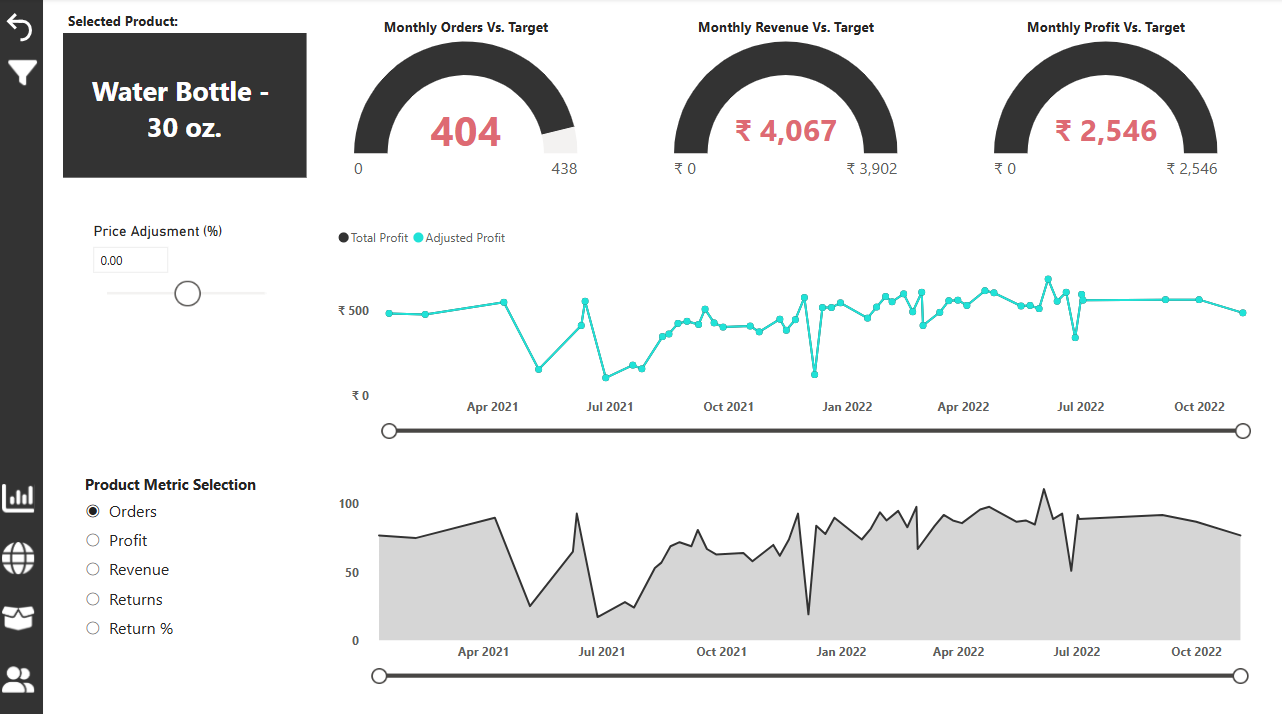

The page's visual inventory and layout, read from the dashboard file:
{"tool":"powerbi","page":{"name":"Product Detail","canvas":[1280,720],"ordinal":2},"visuals":[{"type":"shape","title":"Left Nav Background","box":[0,0,45,720],"z":0},{"type":"actionButton","box":[0.3,478.1,59.9,40.4],"z":0,"group":"g1"},{"type":"gauge","title":"Monthly Orders Vs. Target","fields":{"Y":["Measure Table.Total Orders"],"MaxValue":["Measure Table.Orders Target"]},"box":[349.7,19.6,232.3,172.4],"z":1000},{"type":"actionButton","box":[0.3,538,59.9,40.4],"z":1000,"group":"g1"},{"type":"gauge","title":"Monthly Revenue Vs. Target","fields":{"Y":["Measure Table.Total Revenue"],"MaxValue":["Measure Table.Previous Month Revenue"]},"box":[668.3,19.6,232.3,172.4],"z":2000},{"type":"actionButton","box":[0.3,597.9,59.9,40.4],"z":2000,"group":"g1"},{"type":"gauge","title":"Monthly Profit Vs. Target","fields":{"Y":["Measure Table.Total Profit"],"MaxValue":["Measure Table.Total Profit"]},"box":[986.8,19.6,232.3,172.4],"z":3000},{"type":"actionButton","box":[0.3,657.9,59.9,40.4],"z":3000,"group":"g1"},{"type":"lineChart","title":"Profit Trending","fields":{"Category":["Calendar Lookup.Date Jeirarchy.Start of Year","Calendar Lookup.Date Jeirarchy.Start of Month","Calendar Lookup.Date Jeirarchy.Start of Week","Calendar Lookup.Date Jeirarchy.Date"],"Y":["Measure Table.Total Profit","Measure Table.Adjusted Profit"]},"box":[333.8,218.9,936.7,222.6],"z":4000},{"type":"areaChart","title":"Returns Trending","fields":{"Y":["Measure Table.Total Orders"],"Category":["Calendar Lookup.Date Jeirarchy.Start of Year","Calendar Lookup.Date Jeirarchy.Start of Month","Calendar Lookup.Date Jeirarchy.Start of Week","Calendar Lookup.Date Jeirarchy.Date"]},"box":[333.8,462.2,934.2,222.6],"z":5000},{"type":"card","fields":{"Values":["Min(Product Lookup.ProductName)"]},"box":[64.8,35.1,242.1,144.3],"z":6000},{"type":"textbox","box":[64.8,8.2,150.4,39.1],"z":7000},{"type":"group","id":"g1","title":"Navigation Bar","box":[0.3,478.1,59.9,220.1],"z":8000},{"type":"slicer","fields":{"Values":["Price Adjusment (%).Price Adjusment (%)"]},"box":[81.9,218.9,206.7,171.2],"z":9000},{"type":"slicer","fields":{"Values":["Product Metric Selection.Product Metric Selection"]},"box":[73.4,469.6,206.7,188.3],"z":10000},{"type":"actionButton","box":[2.4,9.8,55,37.9],"z":10001},{"type":"actionButton","box":[6.1,56.3,55,36.7],"z":10002}]}

Visuals, with their boxes on the page's 1280x720 design canvas (x1, y1, x2, y2). These are canvas units, not pixel positions in the 1282x714 screenshot, which may show the page scaled, cropped or inside an application window:
"Left Nav Background" shape: region(0, 0, 45, 720)
actionButton: region(0, 478, 60, 518)
"Monthly Orders Vs. Target" gauge: region(350, 20, 582, 192)
actionButton: region(0, 538, 60, 578)
"Monthly Revenue Vs. Target" gauge: region(668, 20, 901, 192)
actionButton: region(0, 598, 60, 638)
"Monthly Profit Vs. Target" gauge: region(987, 20, 1219, 192)
actionButton: region(0, 658, 60, 698)
"Profit Trending" lineChart: region(334, 219, 1270, 442)
"Returns Trending" areaChart: region(334, 462, 1268, 685)
card - Min(Product Lookup.ProductName): region(65, 35, 307, 179)
textbox: region(65, 8, 215, 47)
"Navigation Bar" group: region(0, 478, 60, 698)
slicer - Price Adjusment (%).Price Adjusment (%): region(82, 219, 289, 390)
slicer - Product Metric Selection.Product Metric Selection: region(73, 470, 280, 658)
actionButton: region(2, 10, 57, 48)
actionButton: region(6, 56, 61, 93)
